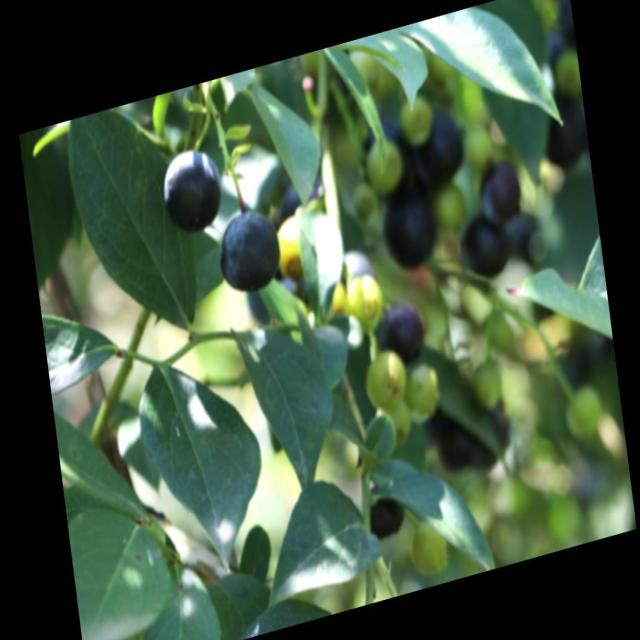blueberry: (213, 203, 284, 300), (160, 140, 226, 242), (377, 181, 441, 273), (413, 107, 464, 182), (456, 206, 511, 274), (376, 297, 425, 367), (476, 157, 522, 219), (357, 481, 403, 543)
blueberry-unripe: (402, 506, 453, 584), (358, 341, 408, 414), (401, 354, 447, 424), (340, 268, 386, 334), (560, 383, 606, 447), (361, 129, 406, 193), (467, 355, 508, 414), (430, 174, 469, 232), (397, 90, 436, 144), (550, 46, 582, 106), (375, 398, 412, 448)
